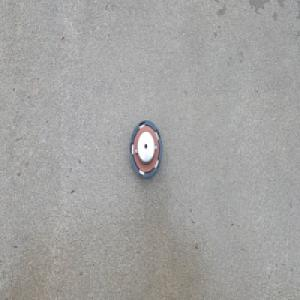FuelCap: (128, 118, 163, 181)
